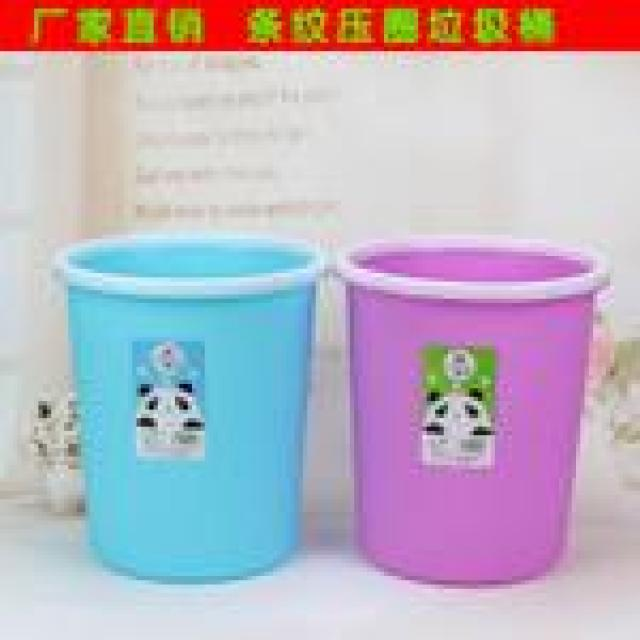dustbin: (49, 227, 336, 587), (333, 228, 616, 591)
